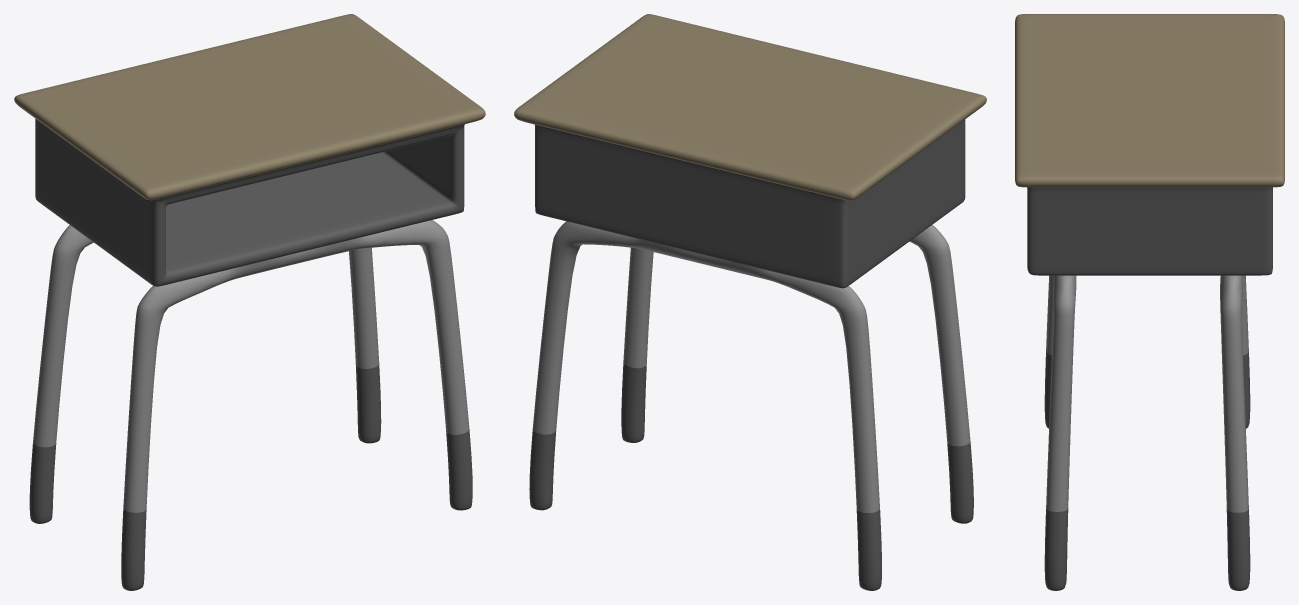
File: runaway_items_desk.fbx
3 views of the same model, side by side, from view 1: azimuth 30°, elevation 25°; view 2: azimuth 150°, elevation 25°; view 3: azimuth 270°, elevation 25° (orthographic).
Visible parts, largest first — view 1: Cube; view 2: Cube; view 3: Cube.
Boxes of the visible parts, box(x1,y1,x2,y2) form: Cube: box(14, 14, 485, 590); Cube: box(514, 14, 986, 590); Cube: box(1015, 14, 1284, 590).
Bounding box in the file's own units: 785 × 886 × 526.
